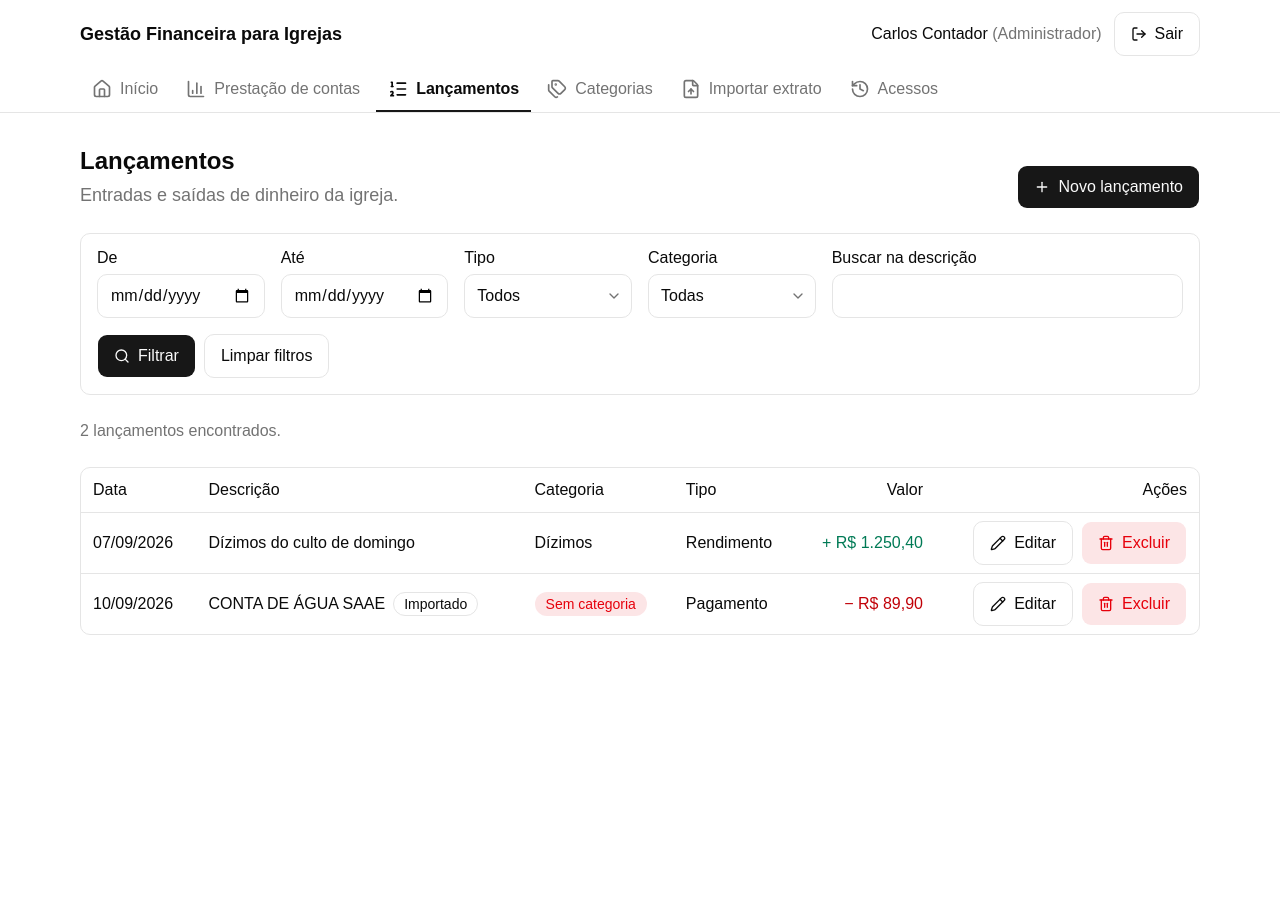
Página de lançamentos › exclui somente depois da confirmação
Click the button with aria-label "Excluir Dízimos do culto de domingo".
click(1134, 542)  # box [1081, 520, 1187, 564]
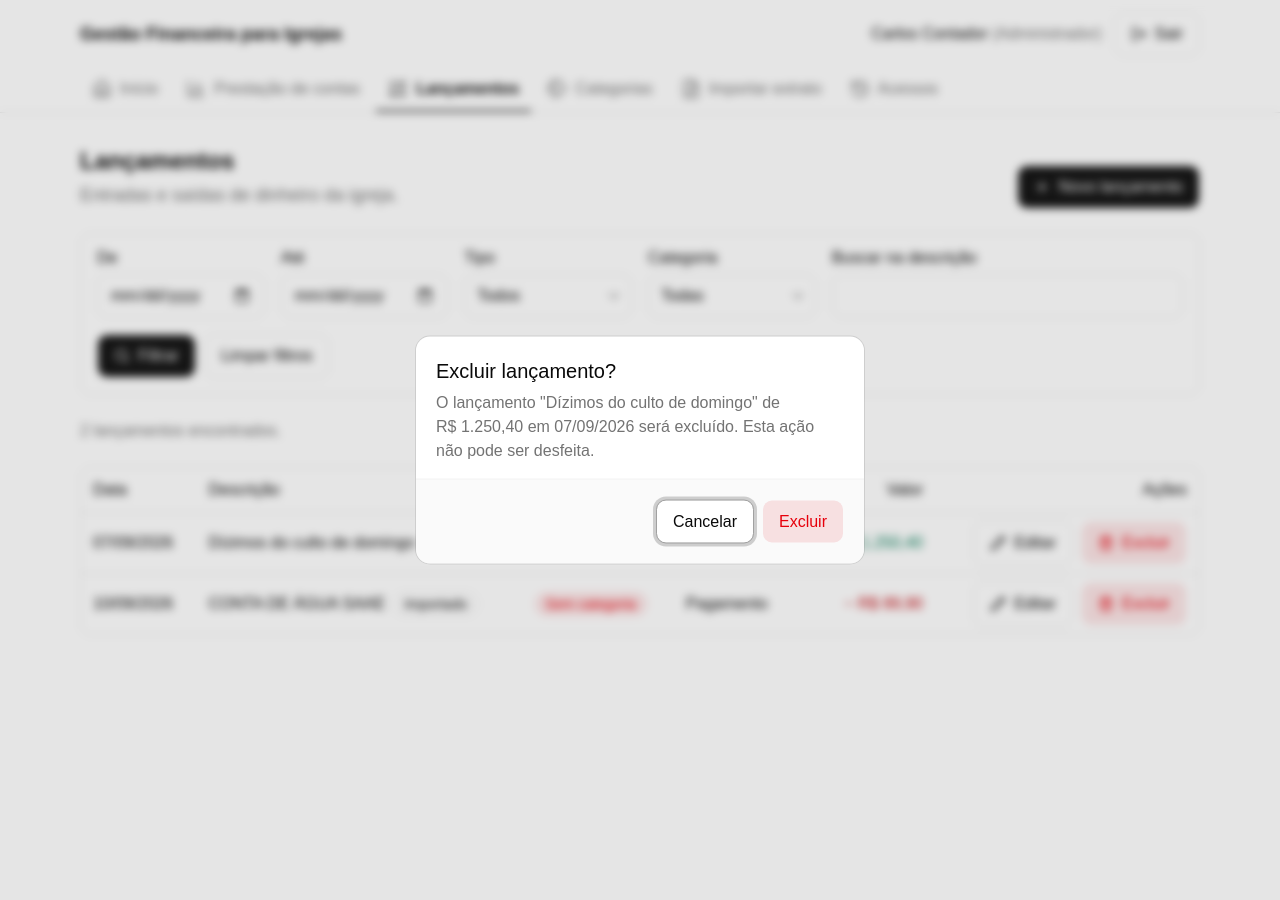
Check: the dialog "Excluir lançamento?" shows "R$ 1.250,40 em 07/09/2026", box [436, 394, 814, 458]
Click the button "Excluir".
click(803, 522)  # box [762, 500, 844, 544]
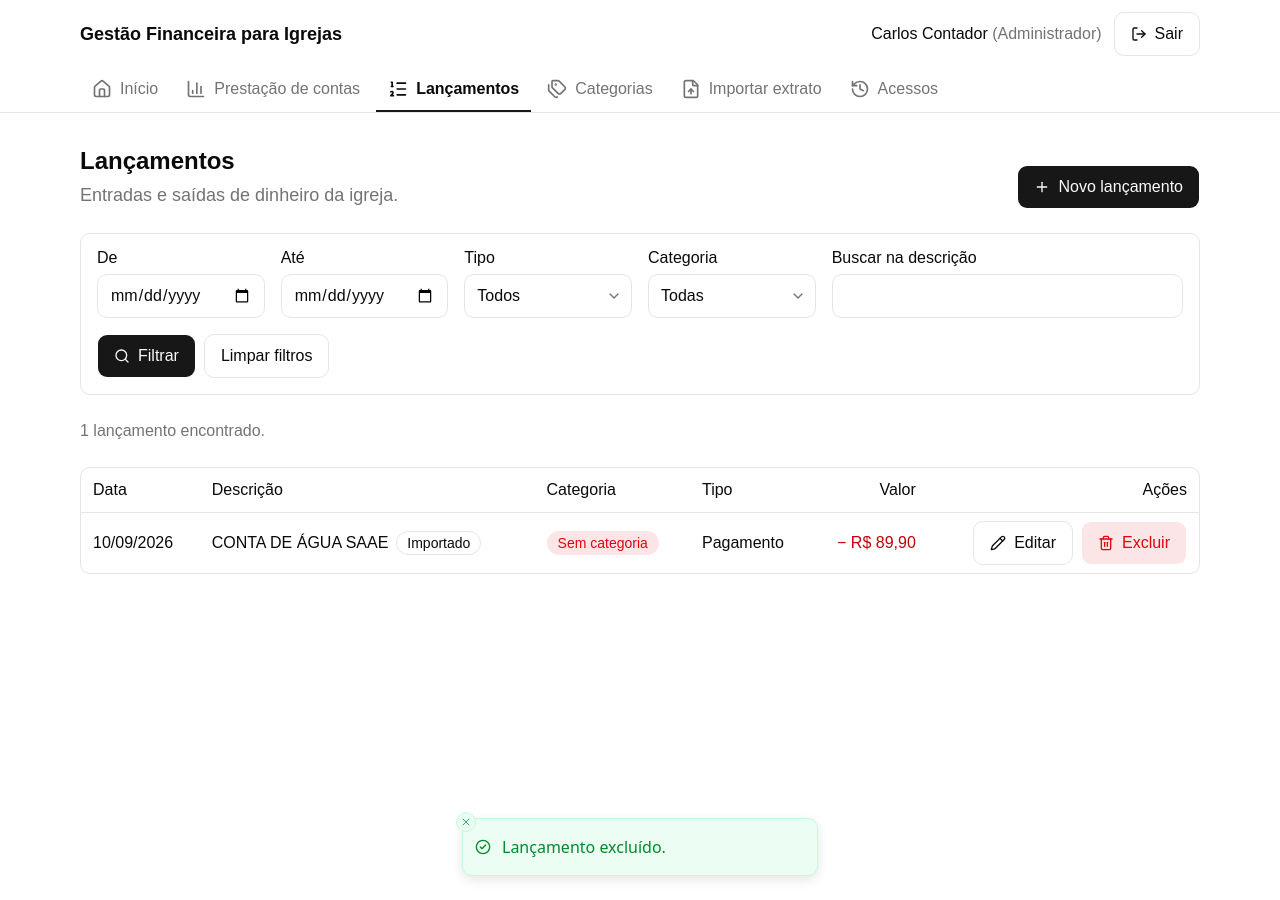
Check: the text "Lançamento excluído." is shown, box [502, 835, 666, 859]
